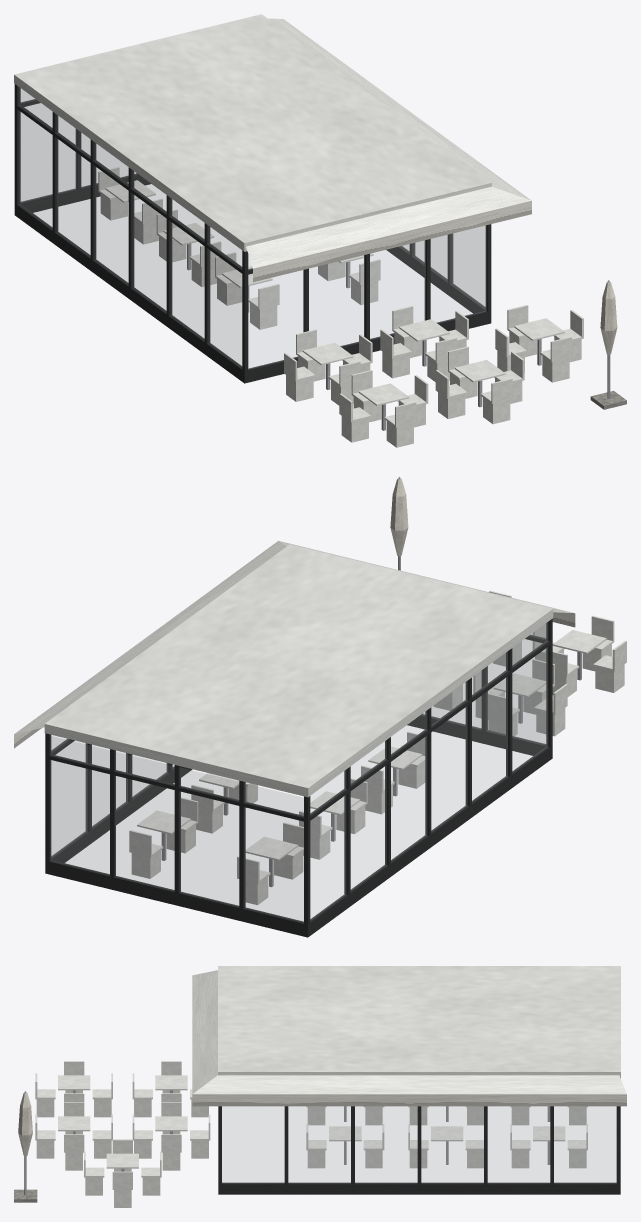
The model's file is SM_Molo_DehorsVetrato_v2_LOD1.fbx.
The picture shows the model from 3 angles, top to bottom: view 1: azimuth 30°, elevation 25°; view 2: azimuth 150°, elevation 25°; view 3: azimuth 270°, elevation 25°; orthographic projection. The views are drawn at different scales.
Visible parts, largest first — view 1: SM_Molo_DehorsVetrato_v2_LOD1; view 2: SM_Molo_DehorsVetrato_v2_LOD1; view 3: SM_Molo_DehorsVetrato_v2_LOD1.
Part boxes in pixels (x1,y1,x2,y2): SM_Molo_DehorsVetrato_v2_LOD1: (14,14,626,447); SM_Molo_DehorsVetrato_v2_LOD1: (14,476,626,937); SM_Molo_DehorsVetrato_v2_LOD1: (14,966,626,1207).
Size of the model in its own units: 622 by 1323 by 293.
2 materials, 1 textured.
